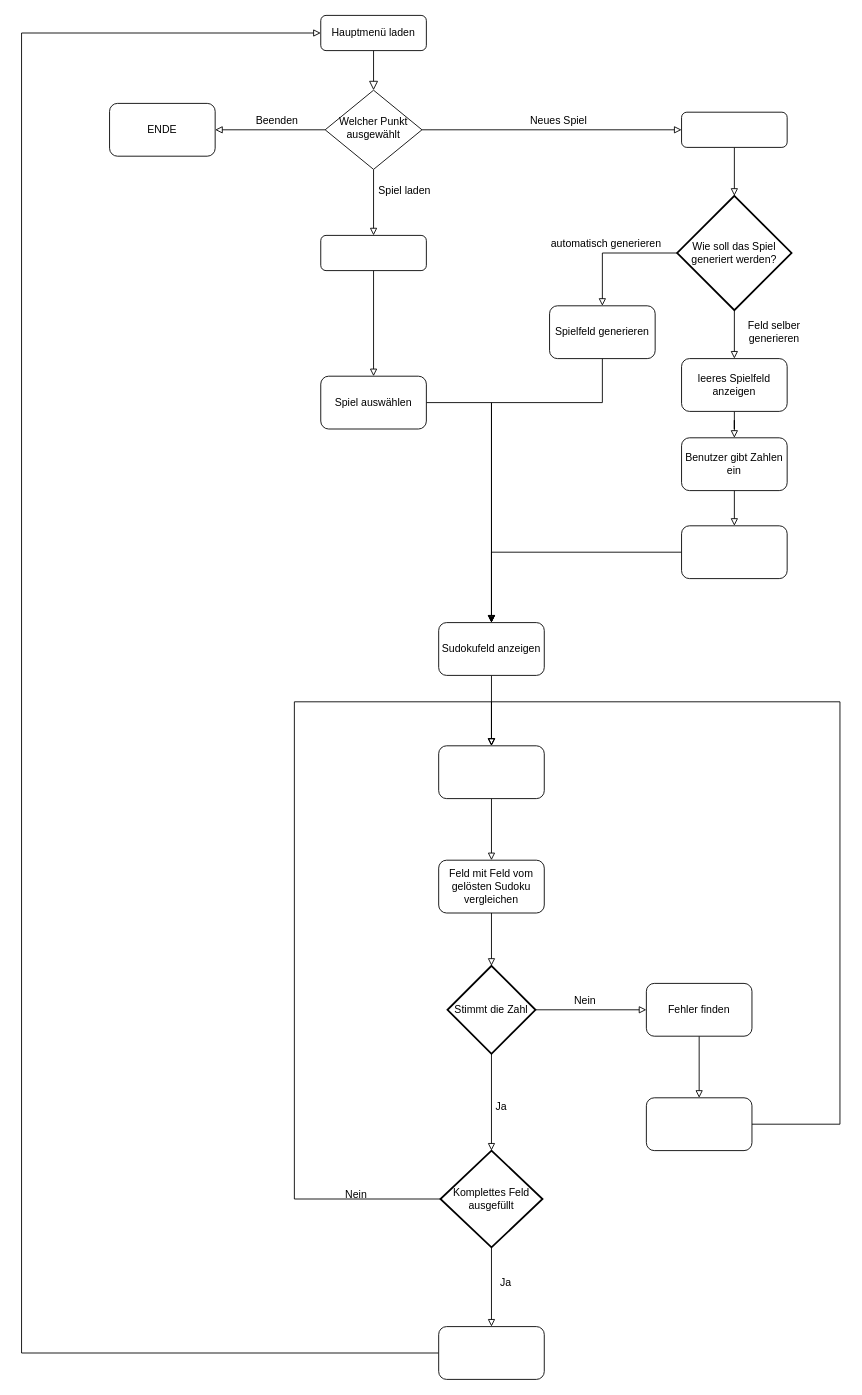
The diagram is 862 pixels wide and 1395 high, and some of its shapes have lost their labels. The centre of each missing label's shape, as x and y in pixels:
Benutzer gibt Zahl in ein beliebiges Feld ein: (491,772)
Fehler Rot anzeigen: (698,1124)
Gespeicherte Spiele laden: (373,253)
Gewinnerfenster anzeigen: (491,1352)
Sudoku im Hintergrund durchlaufen: (734,552)
Sudoku-Art wählen: (734,129)
